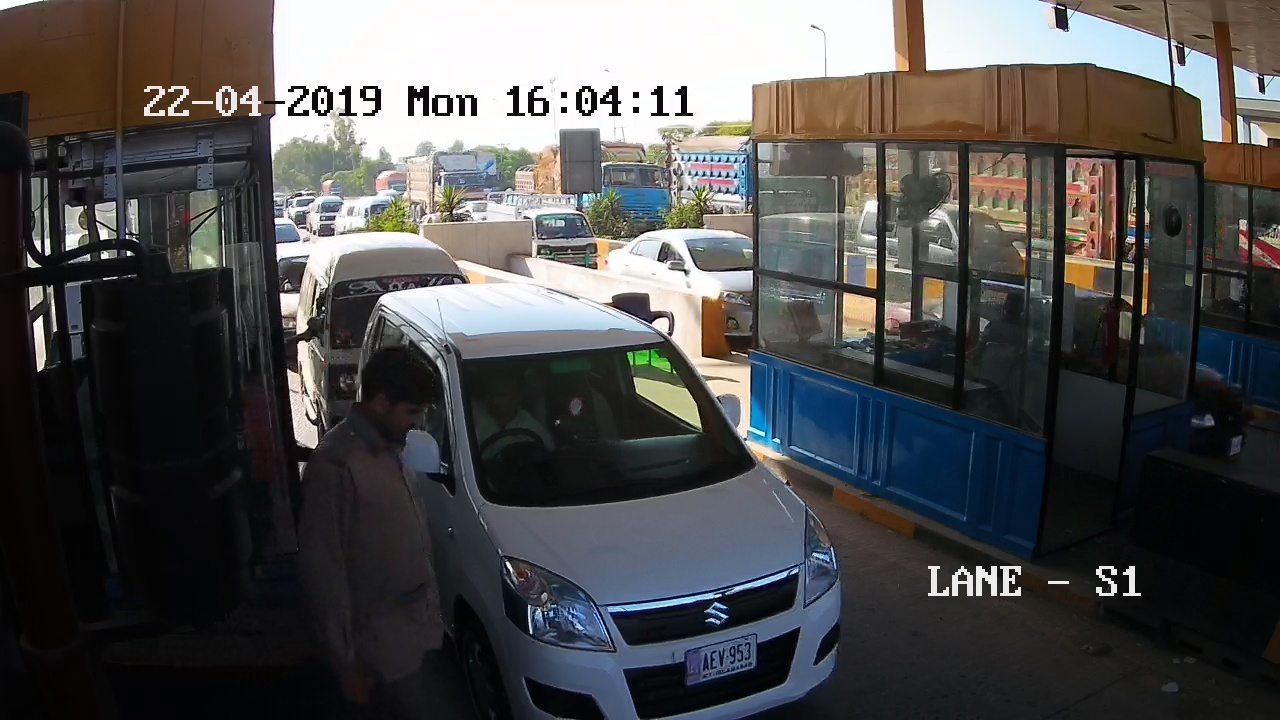Number Plate (Car): (682, 637, 763, 680)
